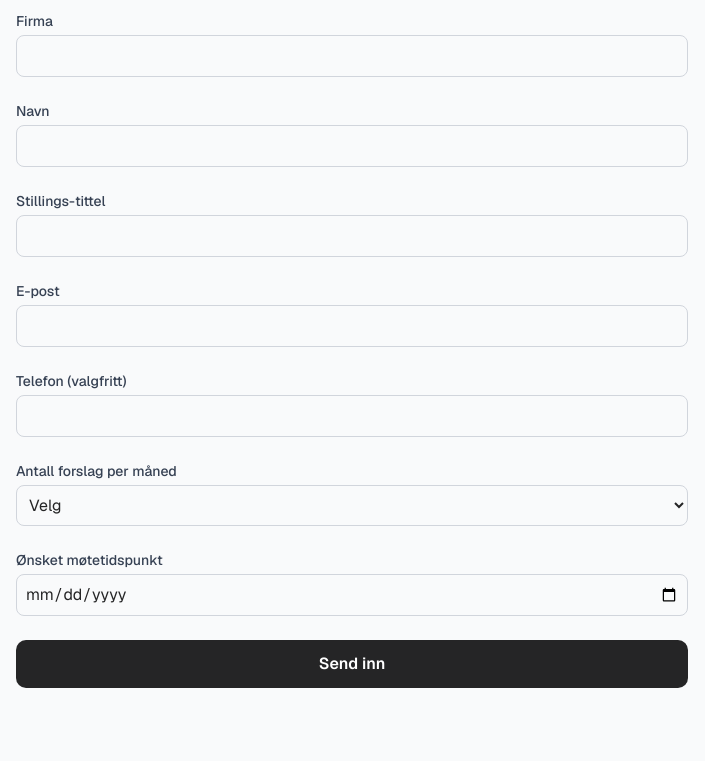
SignupForm › validates required fields
(page scrolled)
Click the button "Send inn" at (352, 664), box 16,640 -> 688,688
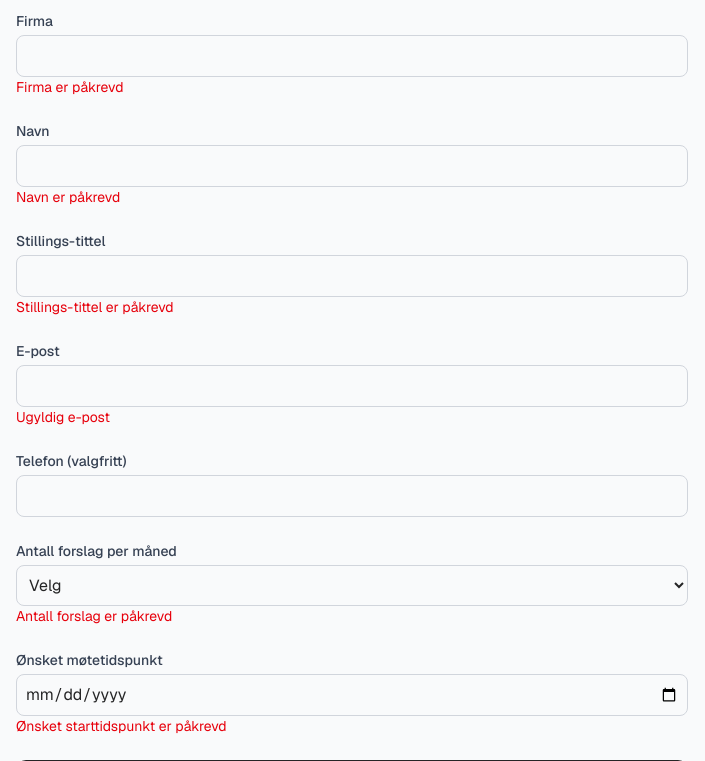
Check: the text "Firma er påkrevd" is shown, box 16,78 -> 124,96
